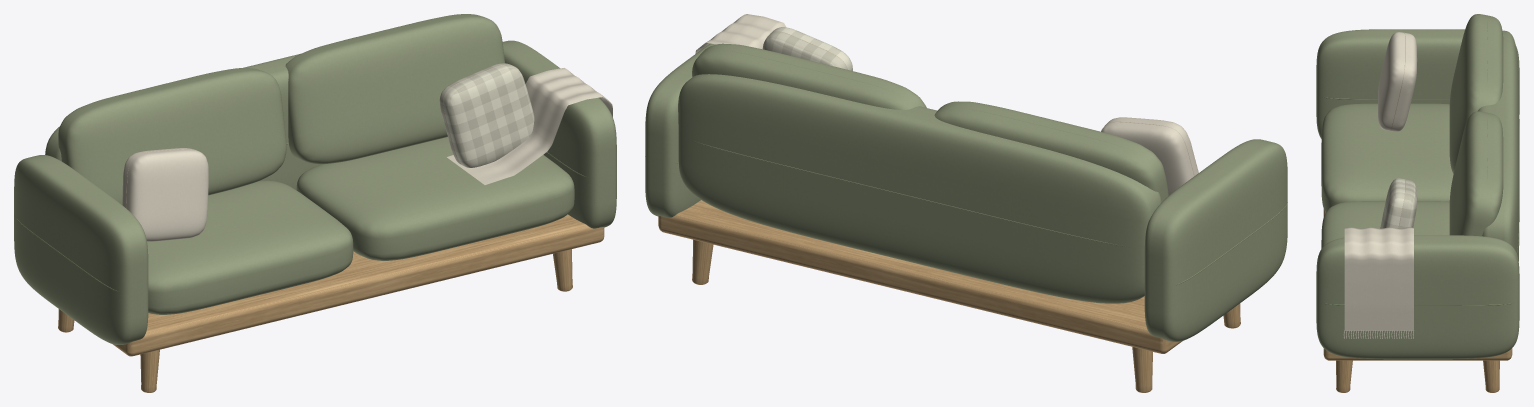
The model's file is home_sofa.glb.
3 renders of one model, left to right at view 1: azimuth 30°, elevation 25°; view 2: azimuth 150°, elevation 25°; view 3: azimuth 270°, elevation 25°, orthographic. The views are drawn at different scales.
Visible parts, largest first — view 1: Linen_Sage_detail_group, Oak_detail_group, Linen_Cream_detail_group, Linen_Check_detail_group; view 2: Linen_Sage_detail_group, Oak_detail_group, Linen_Cream_detail_group, Linen_Check_detail_group, Seam_Sage_detail_group; view 3: Linen_Sage_detail_group, Linen_Cream_detail_group, Oak_detail_group, Linen_Check_detail_group, Seam_Sage_detail_group.
Boxes of the visible parts, <box> form: Linen_Sage_detail_group: <box>14,14,616,344</box>; Oak_detail_group: <box>58,214,604,392</box>; Linen_Cream_detail_group: <box>122,68,612,241</box>; Linen_Check_detail_group: <box>439,63,534,167</box>; Linen_Sage_detail_group: <box>645,43,1287,341</box>; Oak_detail_group: <box>658,200,1240,392</box>; Linen_Cream_detail_group: <box>695,14,1198,195</box>; Linen_Check_detail_group: <box>762,27,852,70</box>; Seam_Sage_detail_group: <box>675,51,1287,285</box>; Linen_Sage_detail_group: <box>1316,14,1519,359</box>; Linen_Cream_detail_group: <box>1343,32,1417,338</box>; Oak_detail_group: <box>1323,209,1512,392</box>; Linen_Check_detail_group: <box>1380,178,1417,228</box>; Seam_Sage_detail_group: <box>1322,21,1519,305</box>.
Size of the model in its own units: 2.34 by 0.9786 by 0.8954.
6 materials, 4 textured.
